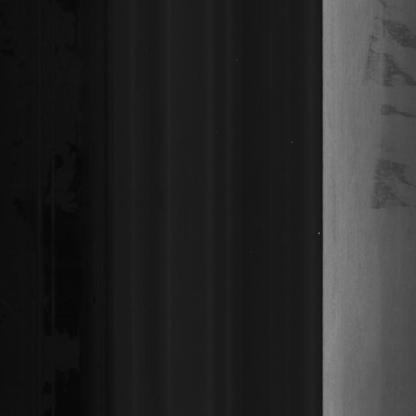water_spot: (354, 0, 414, 221)
